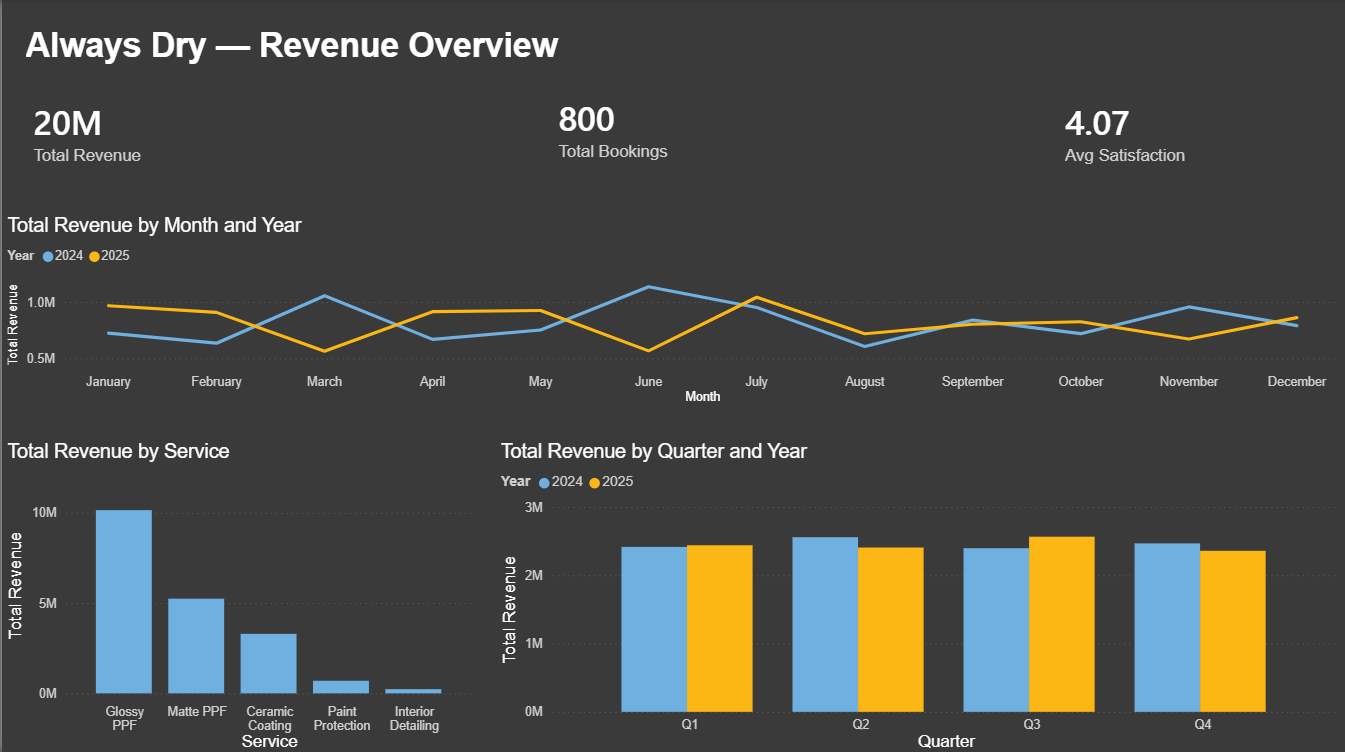

Layout of this report page (visuals, bound fields, positions):
{"tool":"powerbi","page":{"name":"Revenue Overview","canvas":[1280,720],"ordinal":0},"visuals":[{"type":"cardVisual","fields":{"Data":["Sheet1.Total Revenue"]},"box":[0,0,280.3,252.4],"z":0},{"type":"clusteredColumnChart","fields":{"Category":["Sheet1.Service"],"Y":["Sheet1.Total Revenue"]},"box":[0,419.9,452.8,300.6],"z":1},{"type":"cardVisual","fields":{"Data":["Sheet1.Avg Satisfaction"]},"box":[983.1,0,279.1,252.4],"z":2},{"type":"lineChart","fields":{"Category":["Sheet1.Month"],"Series":["Sheet1.Year"],"Y":["Sheet1.Total Revenue"]},"box":[0,205.5,1279.9,185.2],"z":3},{"type":"cardVisual","fields":{"Data":["Sheet1.Total Bookings"]},"box":[499.8,40.6,279.1,164.9],"z":5},{"type":"clusteredColumnChart","fields":{"Category":["Sheet1.Quarter"],"Y":["Sheet1.Total Revenue"],"Series":["Sheet1.Year"]},"box":[470.6,419.9,809.3,300.6],"z":6},{"type":"textbox","box":[17.8,21.6,780.1,57.1],"z":7}]}

Visuals, with their boxes in screenshot pixels (x1, y1, x2, y2), scaled from the page's 1280x720 canvas onto the 1345x752 screenshot:
cardVisual - Sheet1.Total Revenue: 0 0 295 264
clusteredColumnChart - Sheet1.Service x Sheet1.Total Revenue: 0 439 476 751
cardVisual - Sheet1.Avg Satisfaction: 1033 0 1326 264
lineChart - Sheet1.Month x Sheet1.Year: 0 215 1344 408
cardVisual - Sheet1.Total Bookings: 525 42 818 215
clusteredColumnChart - Sheet1.Quarter x Sheet1.Total Revenue: 494 439 1344 751
textbox: 19 23 838 82
